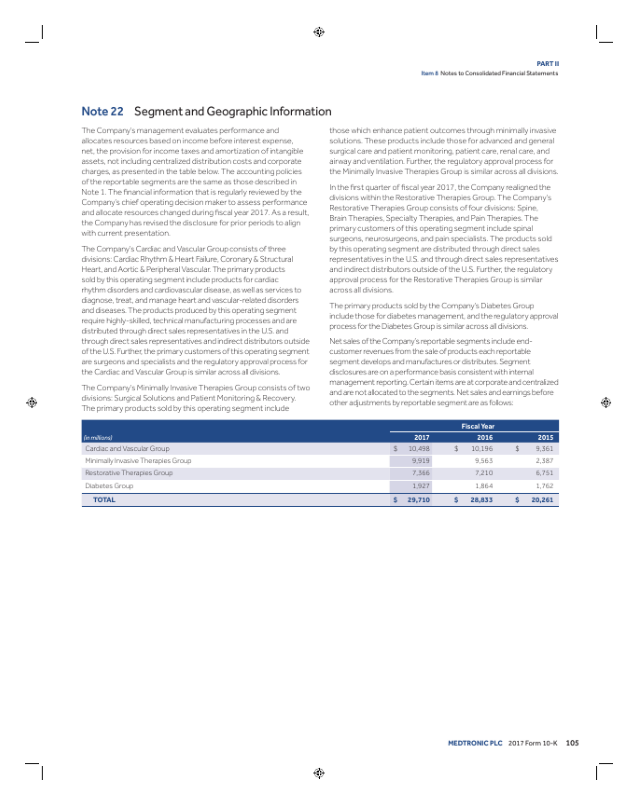table: (80, 418, 559, 511)
